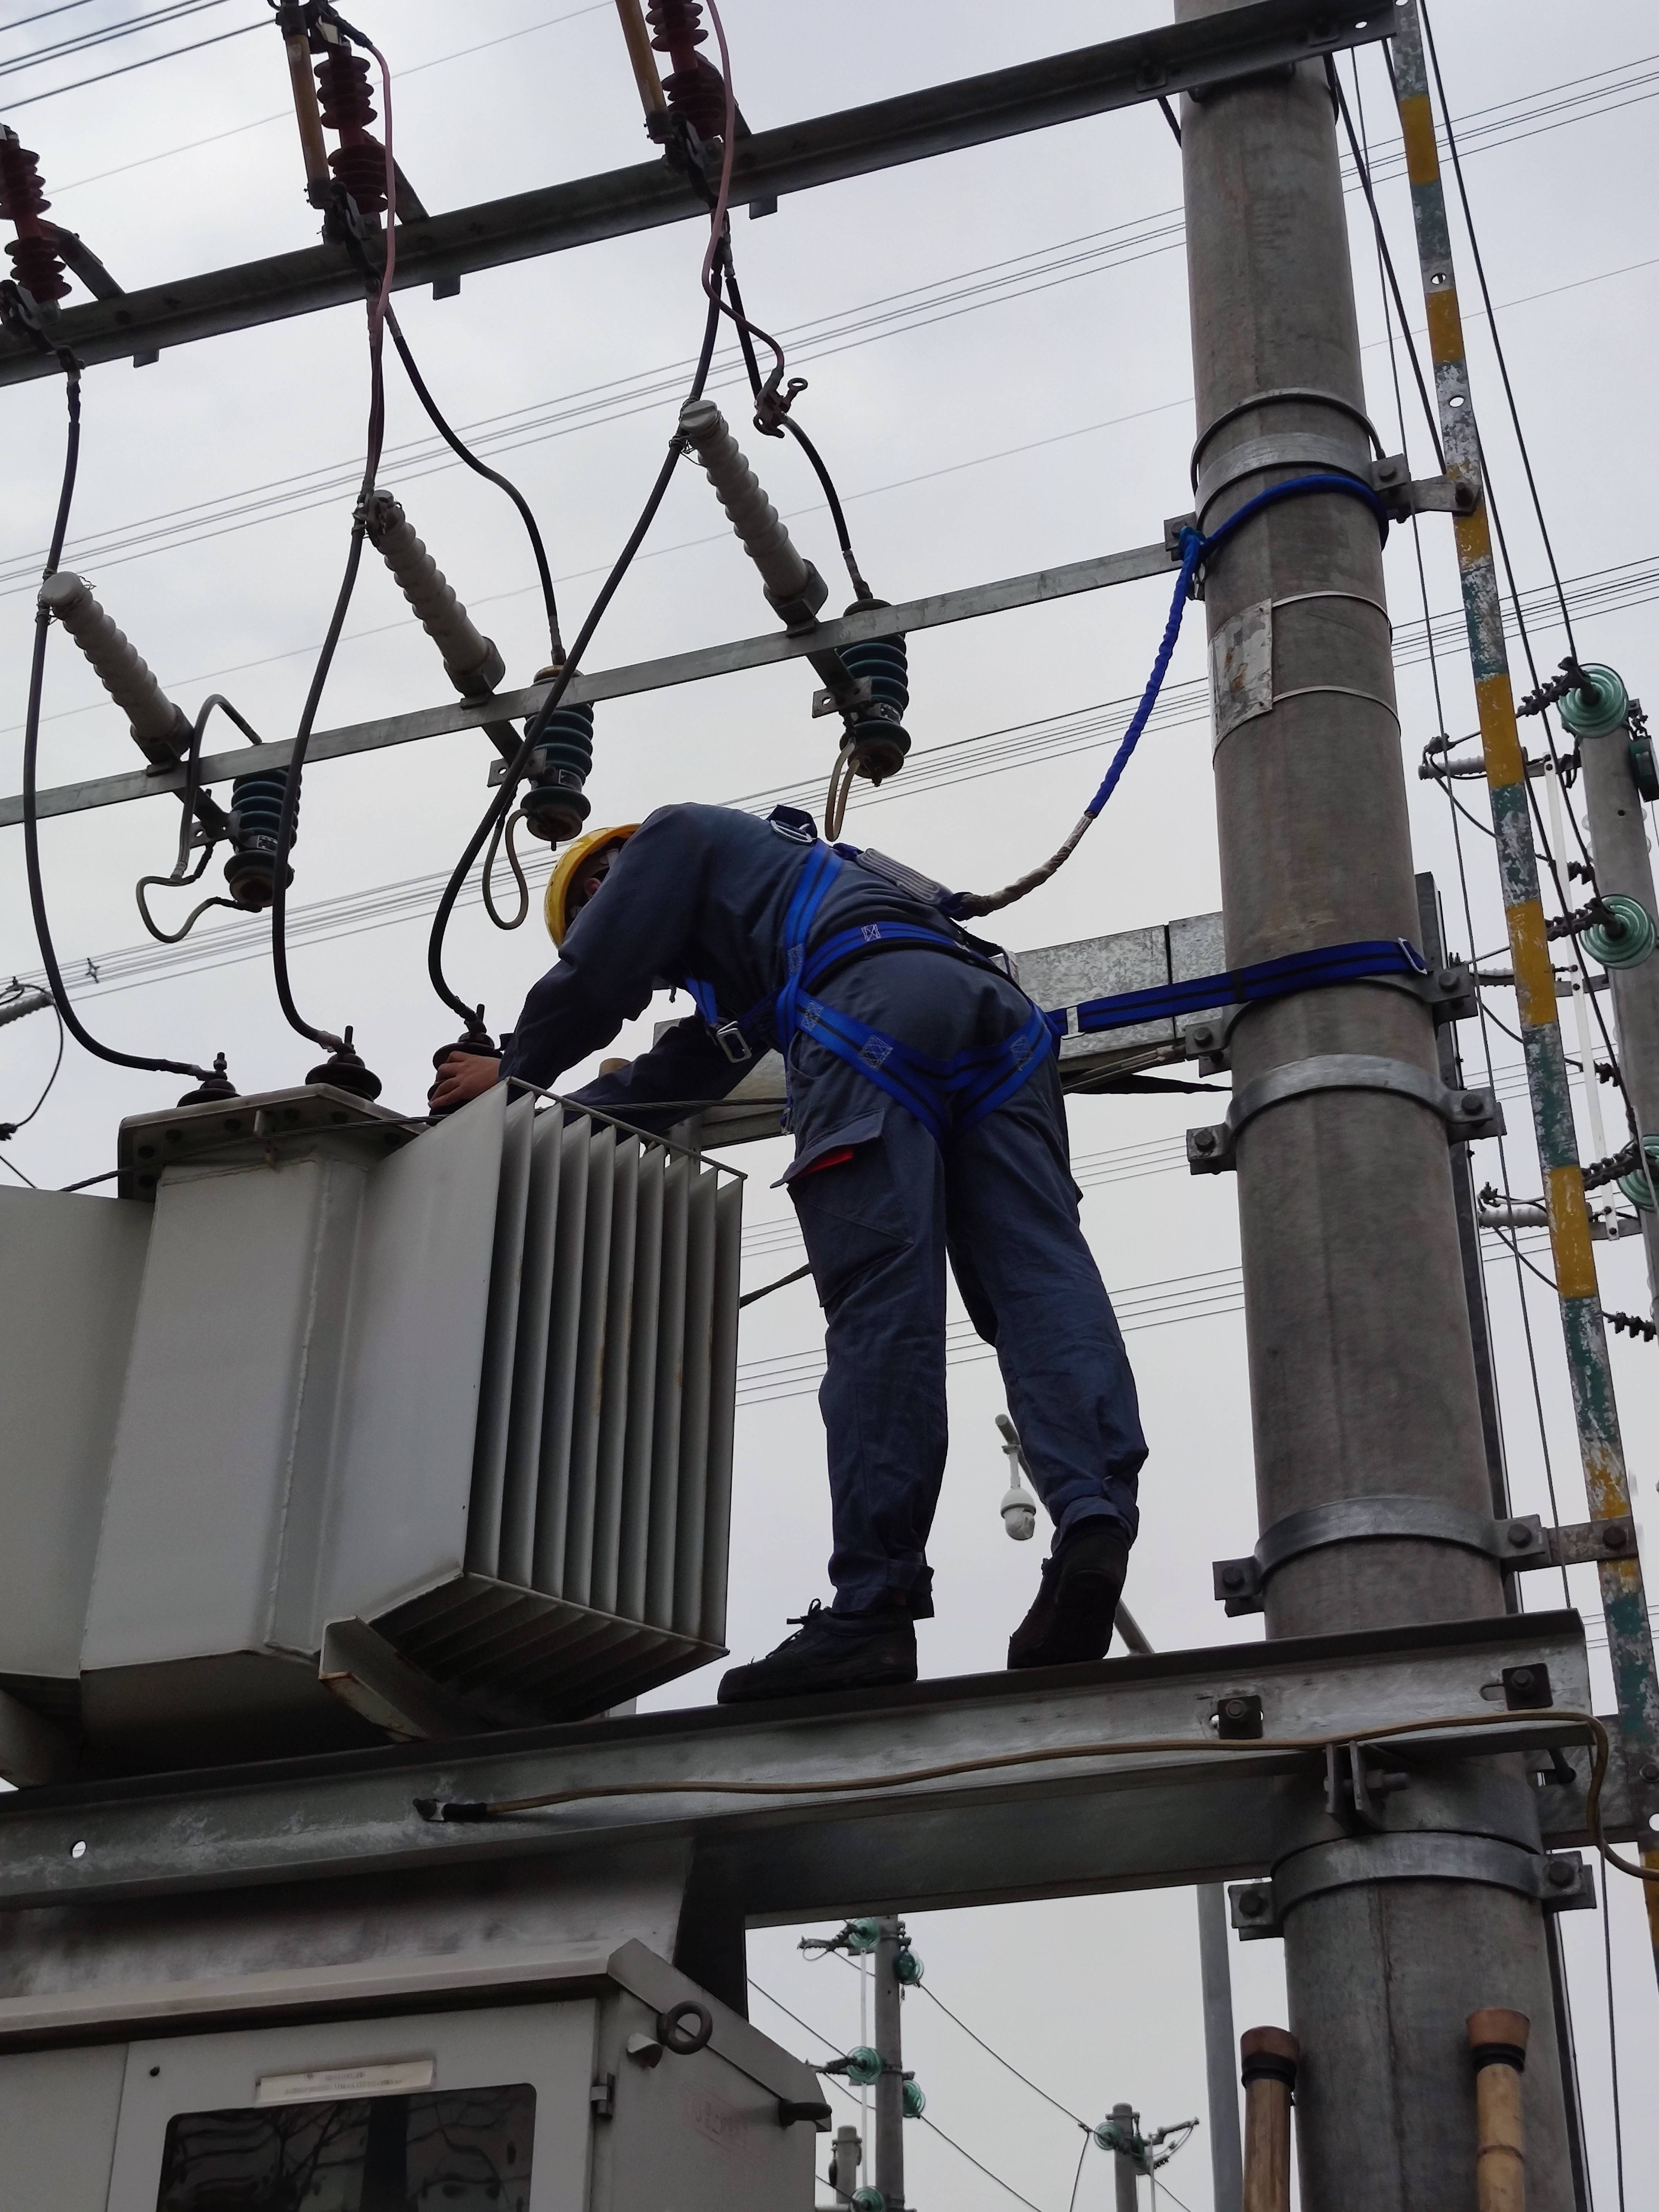downsuit: (777, 1008, 1150, 1606)
upsuit: (519, 805, 969, 1092)
